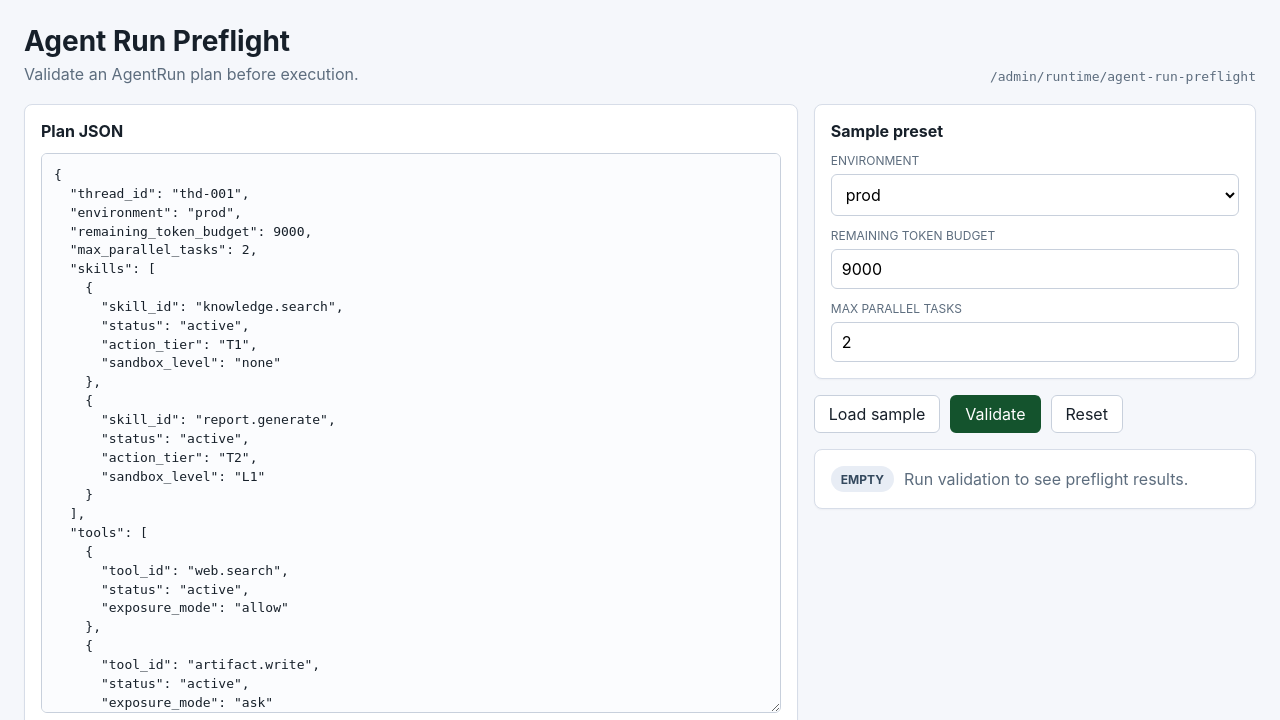
Test: AgentRunPreflightPage › shows ready response
Click the button "Validate".
click(995, 414)  # box [950,395,1040,433]
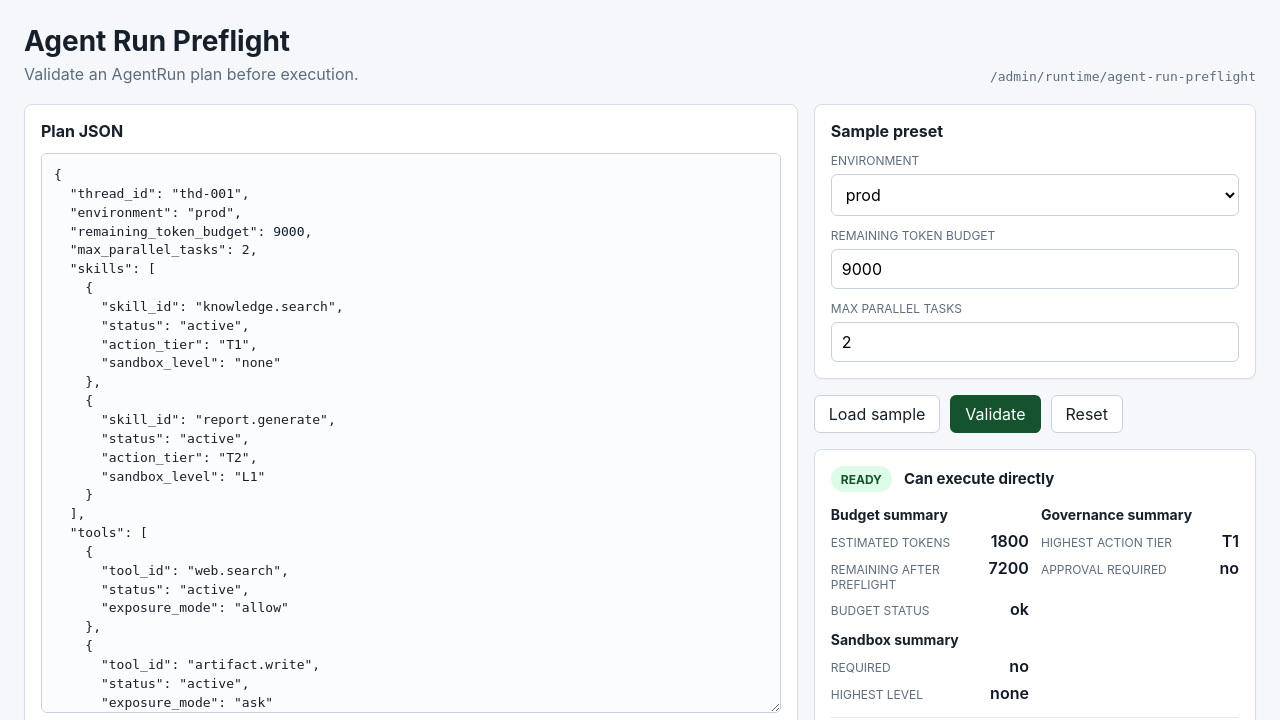
Result: the text "ready" is shown at [831,466,892,492]
Result: the text "Estimated tokens" is shown at [831,535,950,550]
